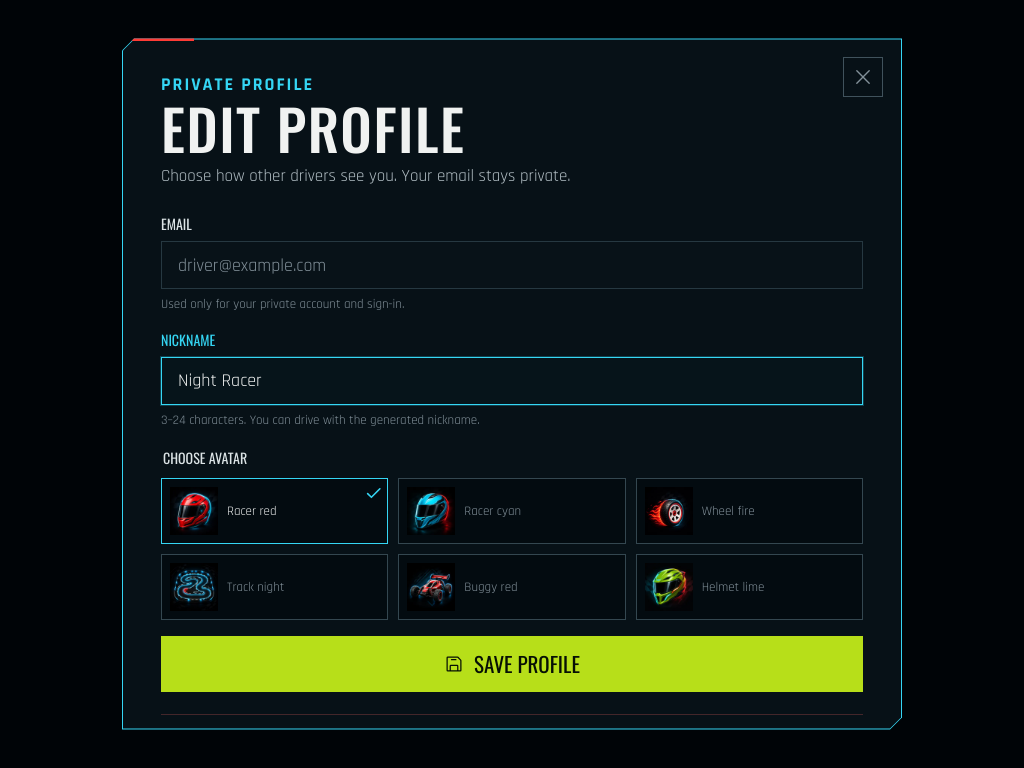
Test: ProfileDialog › saves nickname and selected avatar to the own-profile API
This screenshot has width=1024, height=768.
Replace the text in the field labelled "NICKNAME" with "Track Ghost" at (512, 381), box [176, 358, 848, 404]
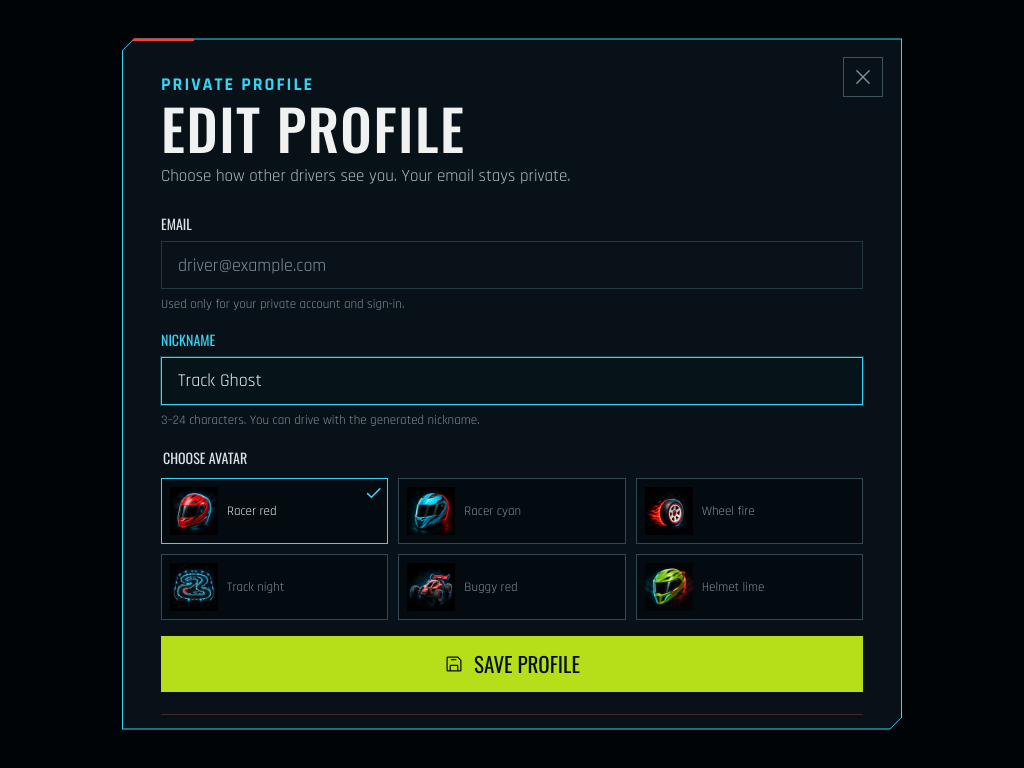
Click the radio button labelled "Wheel fire" at (749, 511), box [636, 478, 863, 544]
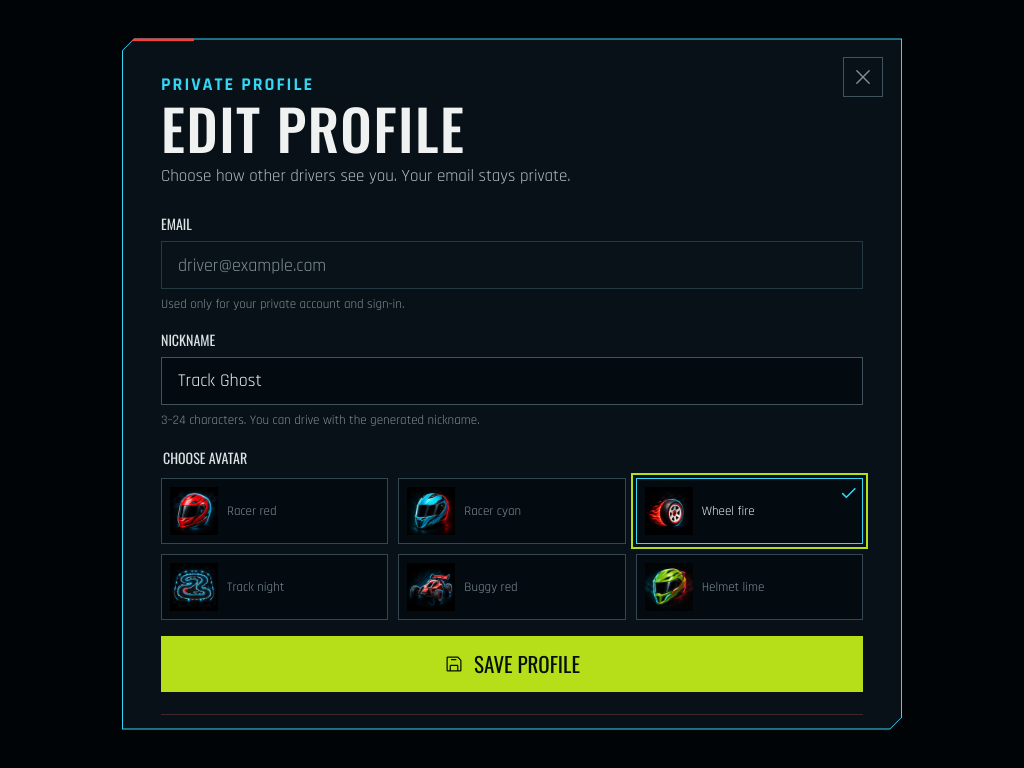
Click the button "SAVE PROFILE" at (512, 664), box [161, 636, 863, 692]
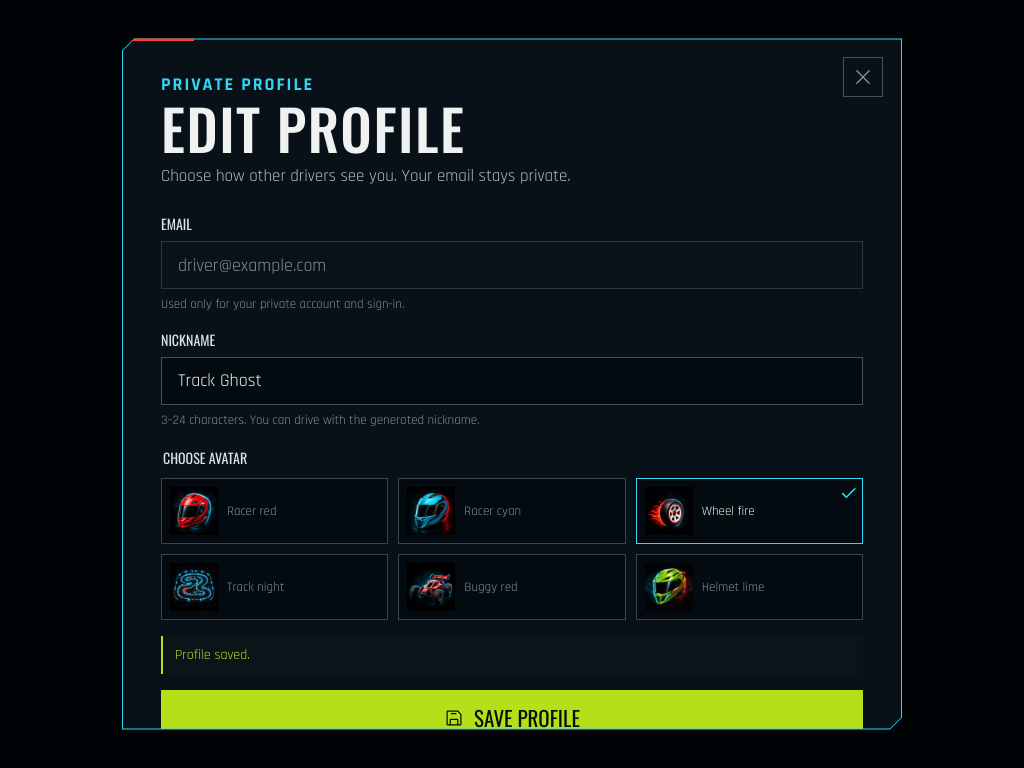
expect the message shows "Profile saved": met, box [175, 646, 250, 664]
